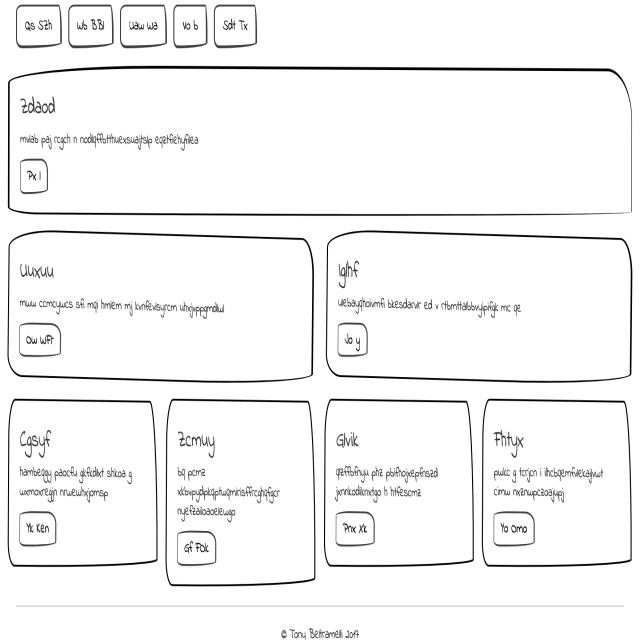Button: (11, 325, 74, 364), (490, 507, 534, 552), (334, 509, 378, 548), (18, 508, 58, 550), (176, 530, 218, 568), (17, 159, 55, 198), (337, 318, 368, 361)
Card: (2, 68, 638, 218), (9, 235, 316, 385), (324, 238, 632, 378), (166, 397, 316, 592), (321, 396, 475, 568), (482, 394, 634, 568), (6, 401, 159, 570)
Footer: (0, 599, 640, 640)
Heading 6: (11, 92, 69, 120), (19, 255, 68, 286), (15, 424, 53, 459), (491, 424, 525, 459), (335, 254, 363, 283), (335, 425, 363, 452)
Navigation Bar: (6, 10, 271, 46)
Paragraph: (173, 462, 295, 523), (14, 120, 206, 158), (18, 291, 241, 323), (336, 291, 528, 320), (494, 462, 614, 505), (335, 461, 441, 502), (18, 466, 134, 502)
